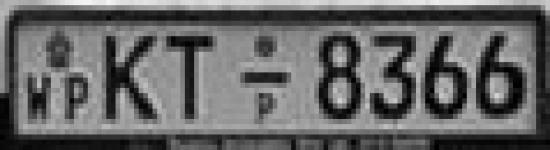-: (238, 65, 294, 93)
3: (367, 29, 426, 124)
6: (473, 32, 529, 124), (426, 30, 471, 122)
8: (306, 26, 367, 125)
K: (100, 31, 164, 128)
P: (62, 63, 98, 124)
T: (166, 30, 222, 125)
W: (20, 67, 59, 128)
